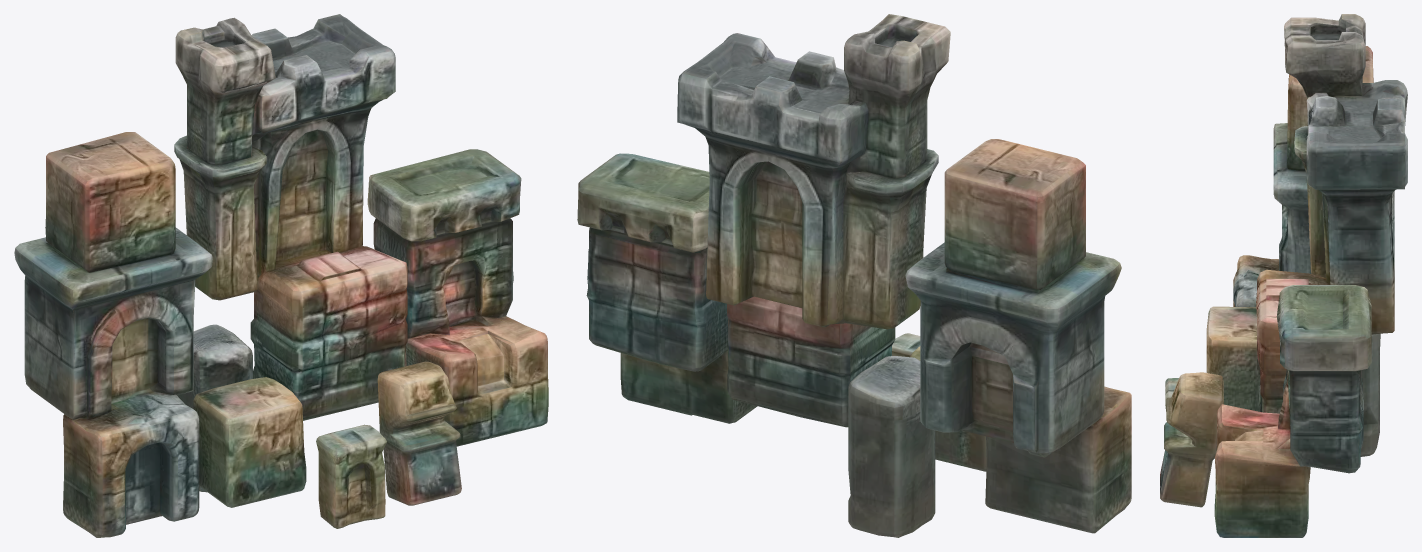
Rendered from fortress_kit.glb.
3 renders of one model, left to right at view 1: azimuth 30°, elevation 25°; view 2: azimuth 150°, elevation 25°; view 3: azimuth 270°, elevation 25°, orthographic. The views are drawn at different scales.
Size of the model in its own units: 1.9 by 1.77 by 0.9393.
Materials: 1 (1 with a texture image).
